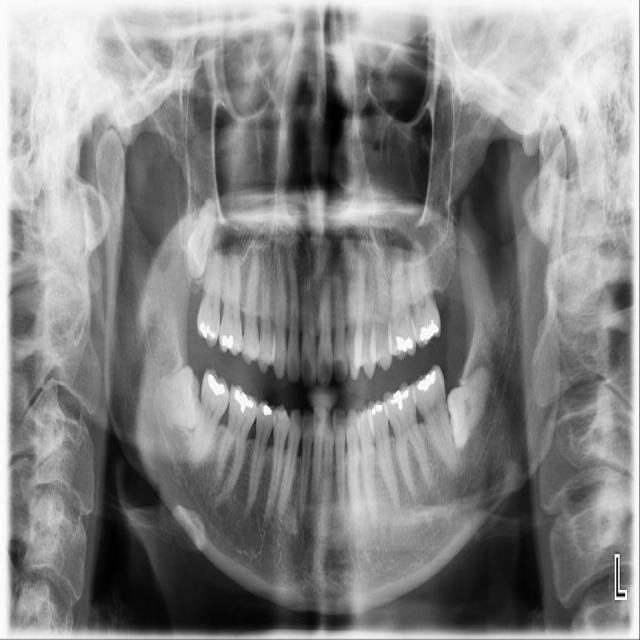3M ESPE Implant: (180, 195, 222, 281)
52: (403, 363, 456, 414), (195, 366, 236, 421), (382, 381, 418, 429), (410, 300, 442, 349), (193, 301, 221, 351), (387, 315, 417, 361), (229, 385, 258, 430), (252, 400, 277, 440), (365, 399, 389, 439), (218, 319, 243, 357)
73: (602, 578, 606, 587)
BioHorizons Implant: (399, 236, 446, 350)
Biomet 3i Implant: (428, 358, 505, 452)
Blue Sky Bio Implant: (408, 364, 461, 480)
Caries: (194, 234, 227, 350)
Implant: (181, 366, 237, 474)
Keystone Dental Implant: (153, 364, 203, 431)
